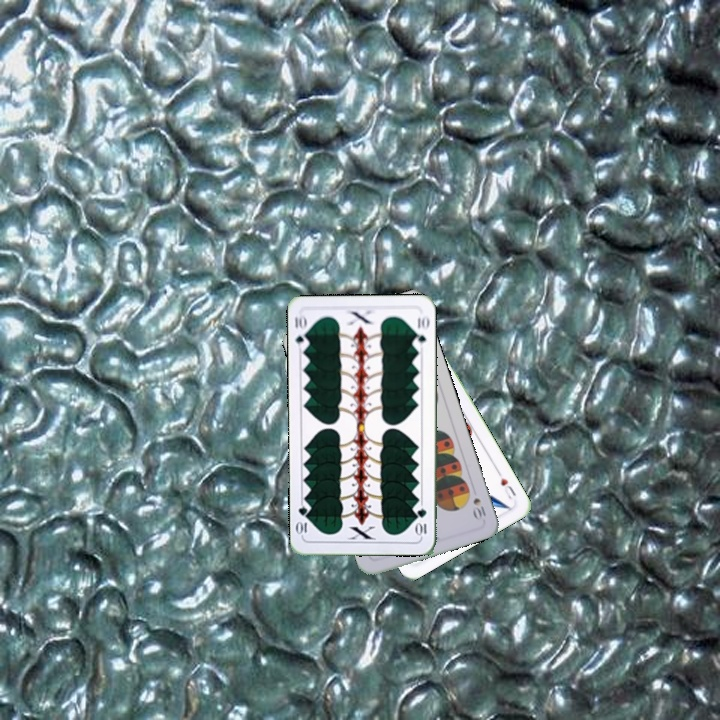G10: (291, 311, 311, 351), (414, 505, 429, 539)
HU: (493, 467, 518, 502)
S10: (468, 494, 488, 523)
